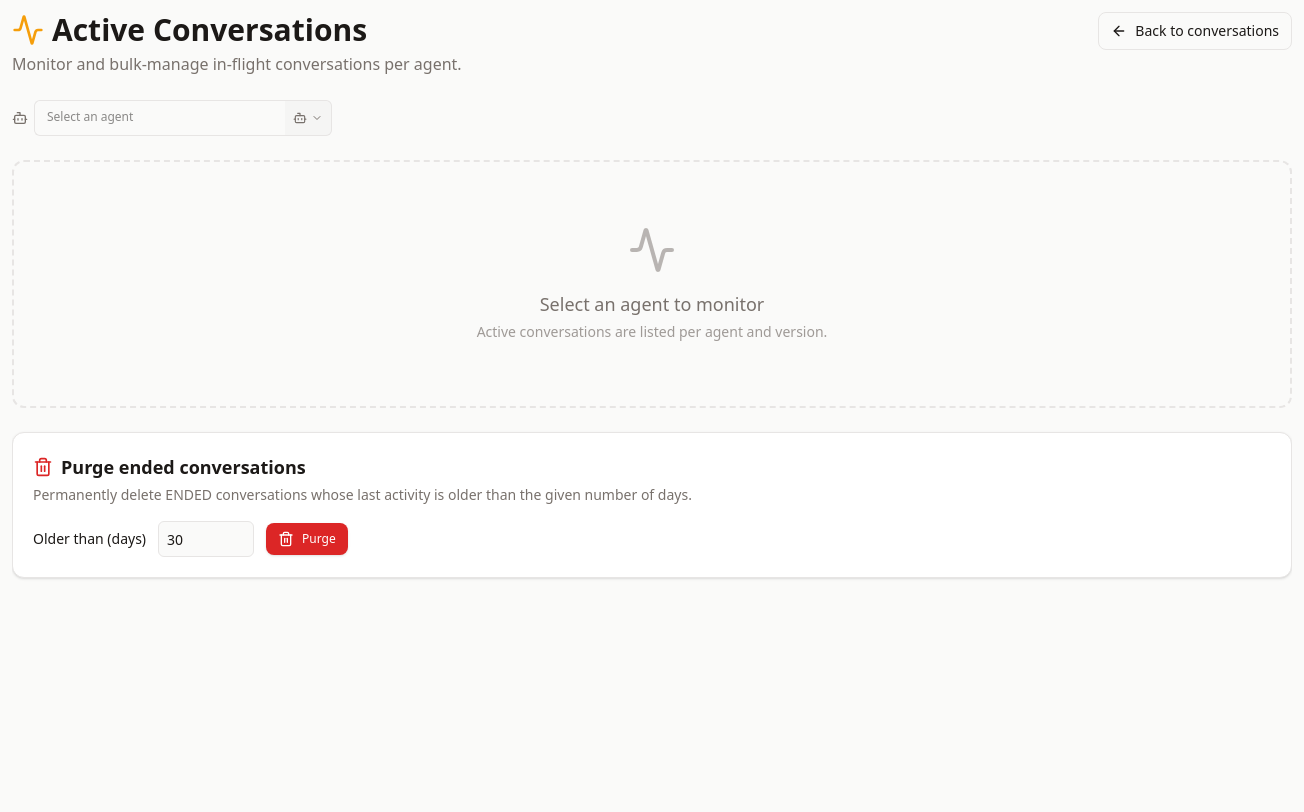
Test: ConversationMonitoringPage — state badges › renders localized state labels, not the raw backend enum
The image size is (1304, 812).
Type "agent1" into the field with placeholder "Select an agent".
click(160, 118); type("agent1")  # box [34,100,285,136]
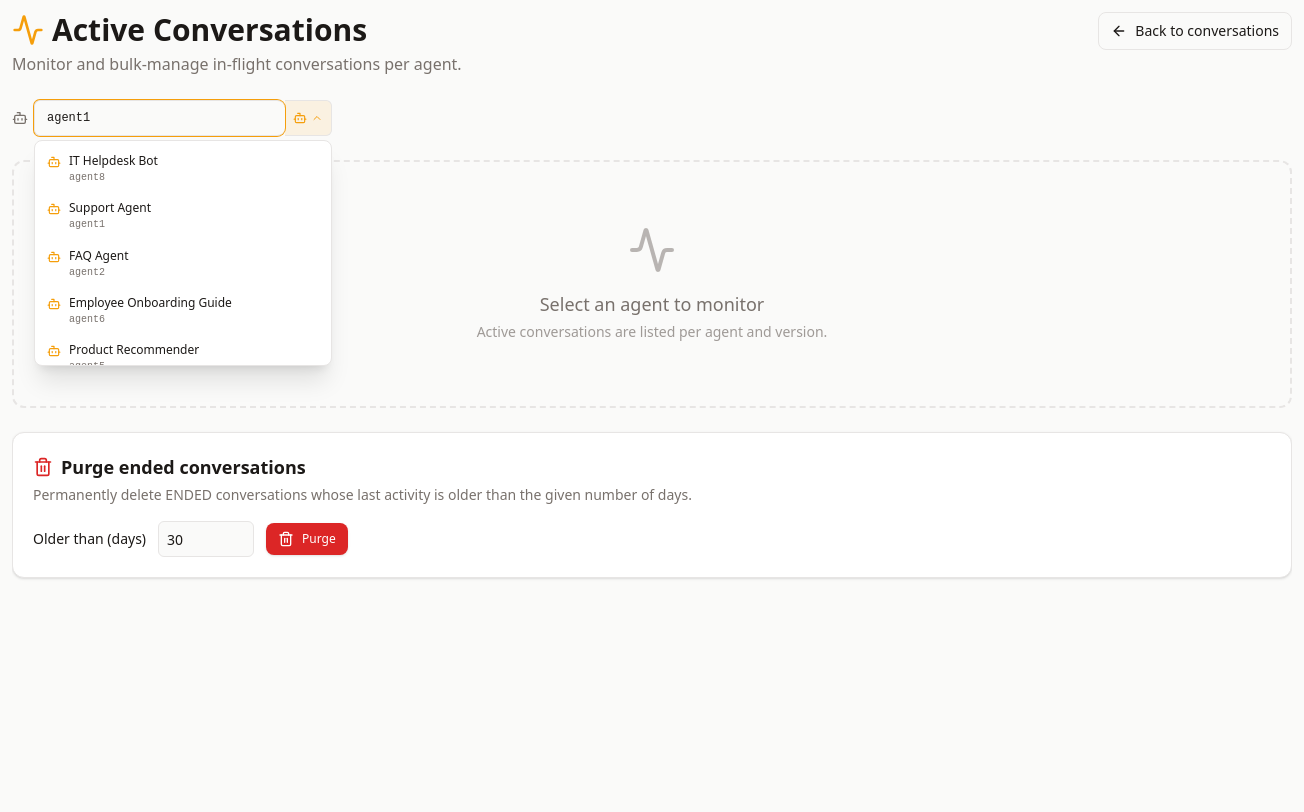
Press Enter
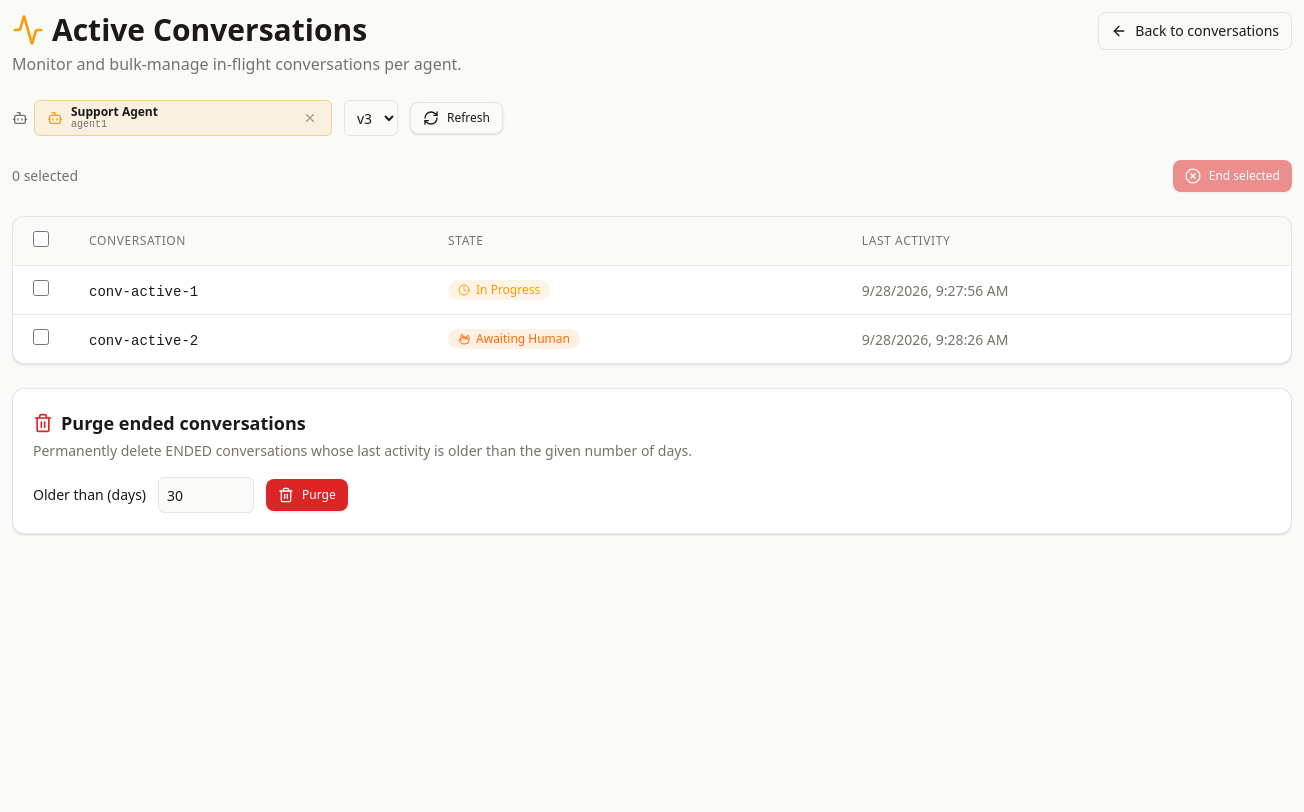
Expected: the element with test id "active-conversation-list" is shown, [12,216,1292,364]
Expected: the text "In Progress" is shown, [448,280,550,300]
